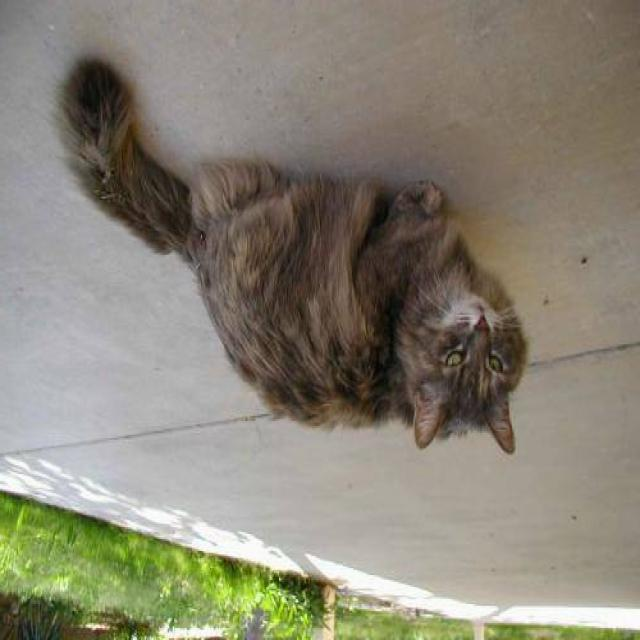Kucing: (34, 45, 544, 499)
